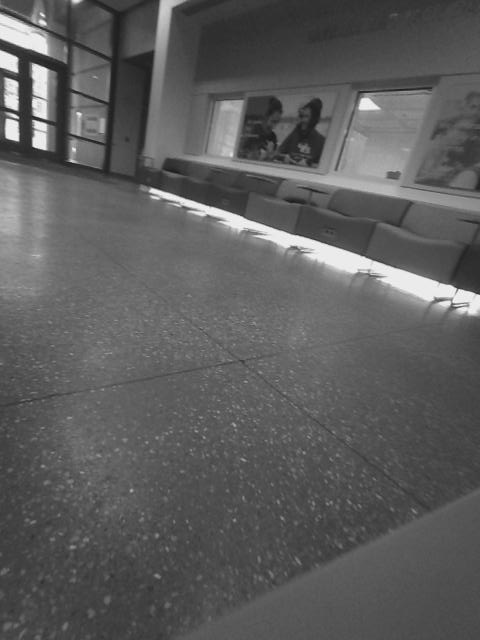ball: (148, 81, 230, 170)
